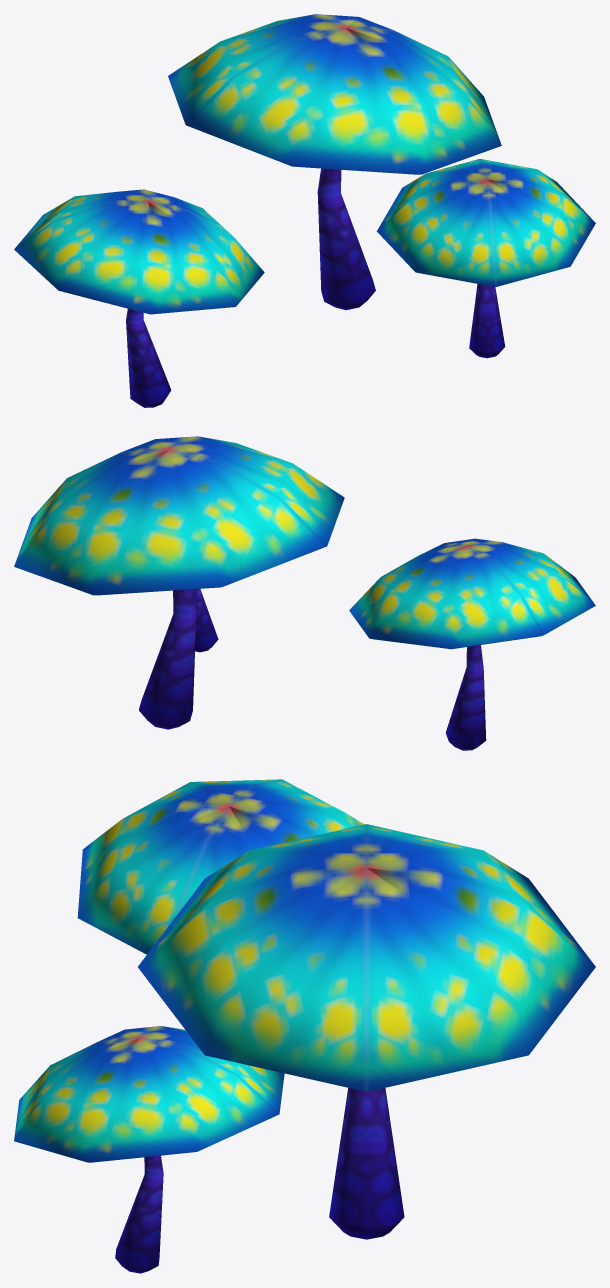
File: Mushroom_03b.FBX
3 views of the same model, one above another, from view 1: azimuth 30°, elevation 25°; view 2: azimuth 150°, elevation 25°; view 3: azimuth 270°, elevation 25° (orthographic). The views are drawn at different scales.
Visible parts, largest first — view 1: Mushroom_03b; view 2: Mushroom_03b; view 3: Mushroom_03b.
Part boxes in pixels (x1,y1,x2,y2): Mushroom_03b: [14, 14, 595, 407]; Mushroom_03b: [14, 436, 595, 750]; Mushroom_03b: [14, 779, 595, 1273].
Bounding box in the file's own units: 180 × 94.99 × 136.
